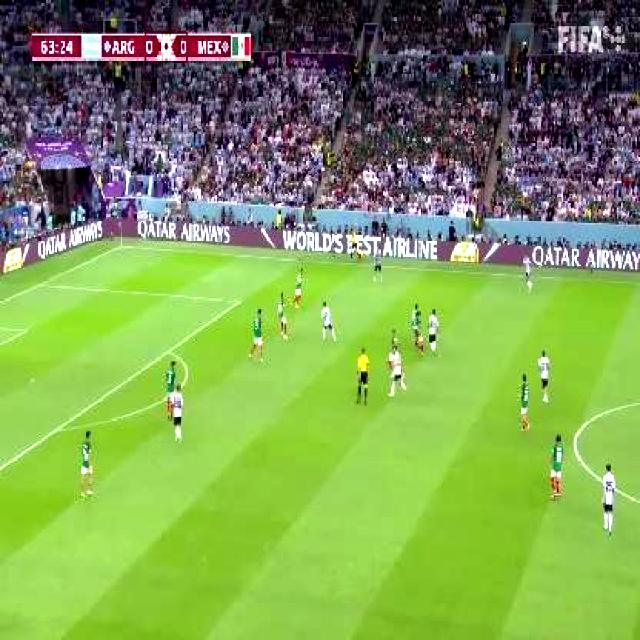bigarea_top_inner: (230, 292, 244, 310)
bigarea_top_outter: (32, 277, 46, 291)
bottom_arc_area_intersection: (49, 418, 65, 437)
corner: (114, 238, 128, 251)
smallarea_top_inner: (17, 322, 31, 338)
top_arc_area_intersection: (160, 340, 175, 358)
